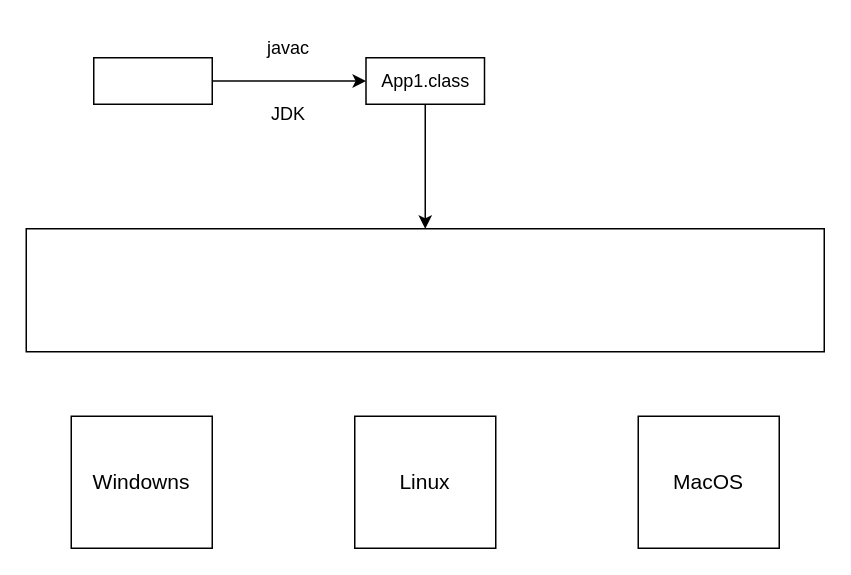
The diagram is 851 pixels wide and 575 high, and some of its shapes have lost their labels. Each missing label, with the centre of its shape:
"App1.java" belongs at [152,80].
"Java Virtual Machine" belongs at [424,289].
